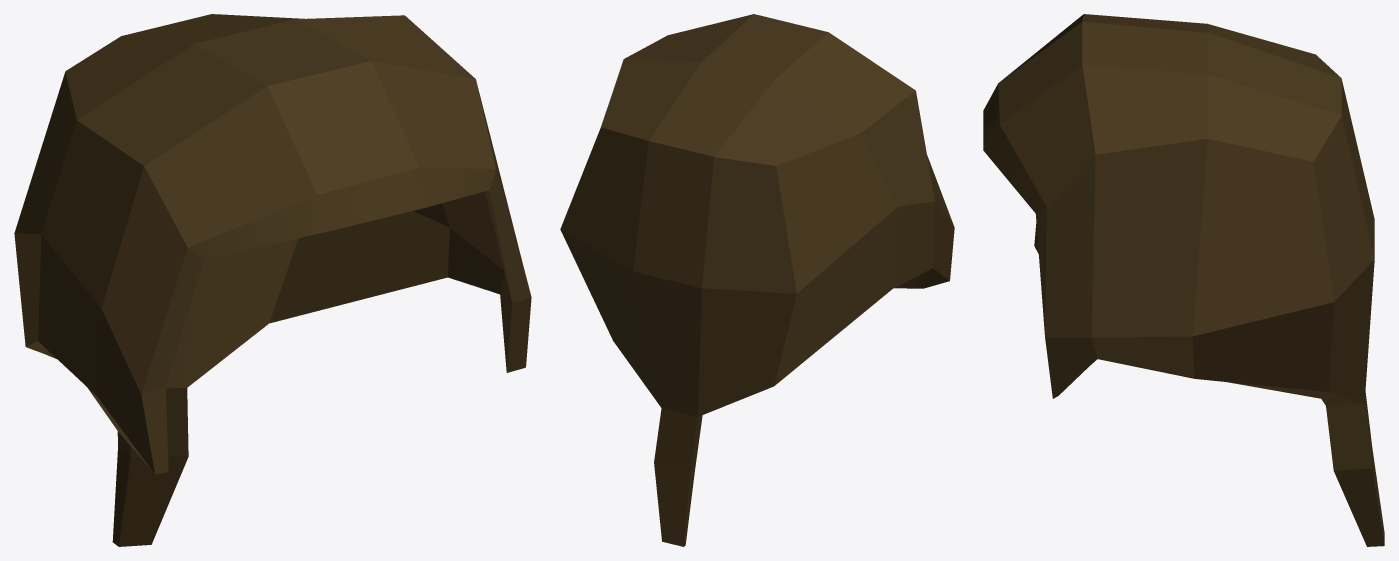
The model's file is Hairstyle_redneck_1.fbx.
3 views of the same model, side by side, from view 1: azimuth 30°, elevation 25°; view 2: azimuth 150°, elevation 25°; view 3: azimuth 270°, elevation 25° (orthographic). The views are drawn at different scales.
Visible parts, largest first — view 1: Hairstyle_redneck_1; view 2: Hairstyle_redneck_1; view 3: Hairstyle_redneck_1.
Part boxes in pixels (x1=…): Hairstyle_redneck_1: x1=14, y1=14, x2=531, y2=546; Hairstyle_redneck_1: x1=560, y1=14, x2=954, y2=546; Hairstyle_redneck_1: x1=983, y1=14, x2=1384, y2=546.
Size of the model in its own units: 7.51 by 7.27 by 10.06.
